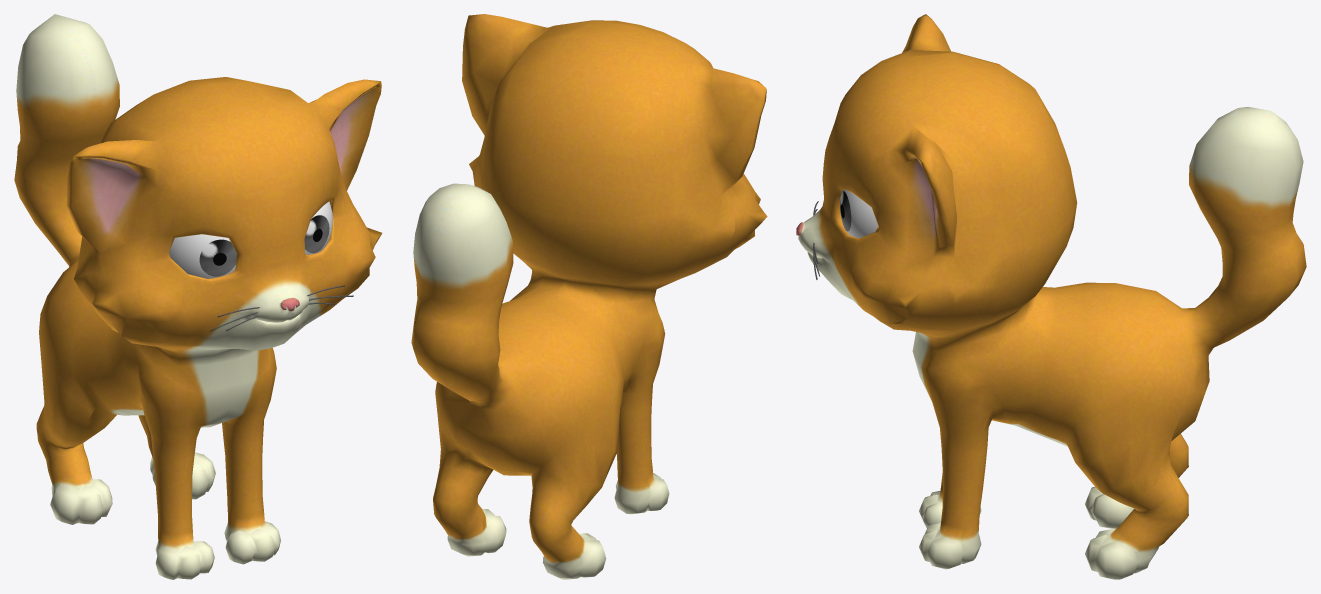
3 views of the same model, side by side, from view 1: azimuth 30°, elevation 25°; view 2: azimuth 150°, elevation 25°; view 3: azimuth 270°, elevation 25° (orthographic). The views are drawn at different scales.
Parts seen in each view (by area): view 1: GLTF_created_0; view 2: GLTF_created_0; view 3: GLTF_created_0.
Boxes of the visible parts, <box> form: GLTF_created_0: <box>14,14,382,579</box>; GLTF_created_0: <box>411,14,767,579</box>; GLTF_created_0: <box>796,14,1306,579</box>.
Size of the model in its own units: 0.8953 by 1.34 by 1.28.
Materials: 1 (1 with a texture image).
